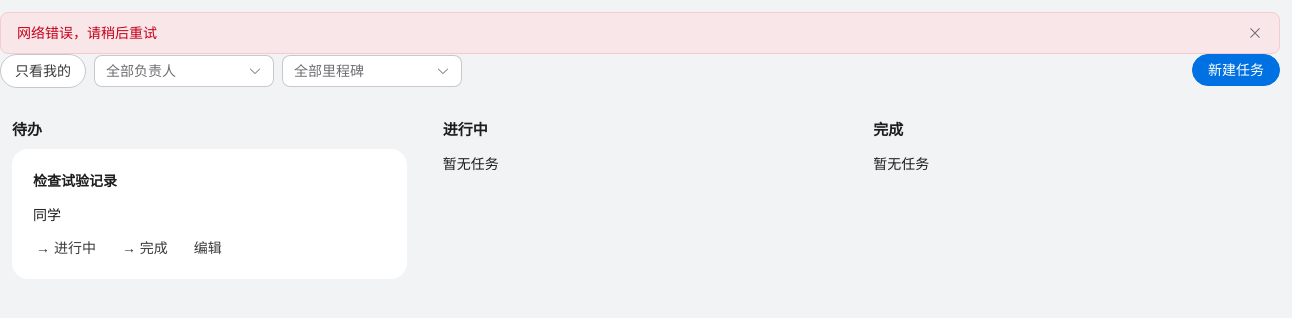
Test: ProjectBoard › loads three status lanes and sends a status-only PATCH for a transition
The width and height of the screenshot is (1292, 318).
expect the element showing "待办 检查试验记录 同学 → 进行中 → 完成 编辑" is shown: met, box [0,104,419,301]
expect the text "检查试验记录" is not shown: met
Click the button "→ 进行中".
click(66, 248)  # box [33,238,99,258]
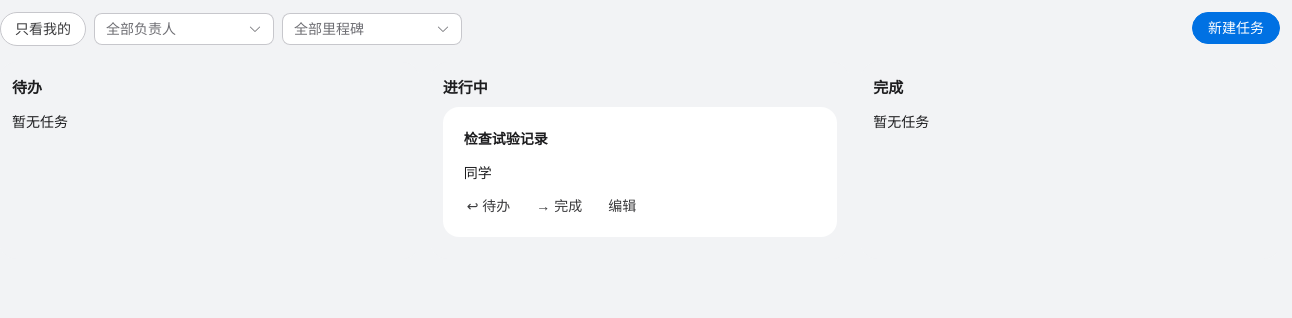
expect the element showing "进行中 检查试验记录 同学 ↩ 待办 → 完成 编辑" is shown: met, box [431,62,849,259]
expect the text "检查试验记录" is gone: met
